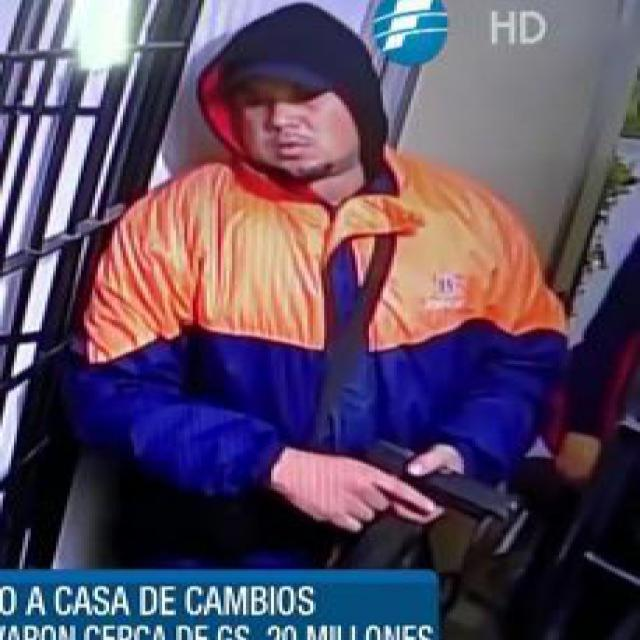weapon: (361, 438, 520, 525)
